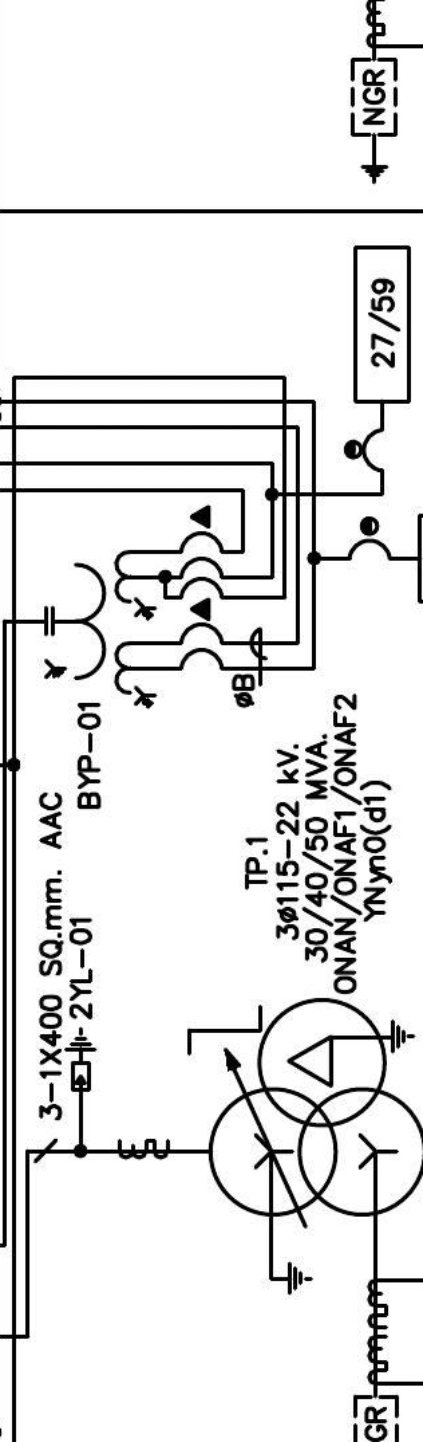115_cvt_3p: (44, 549, 158, 710)
115_la: (63, 1027, 98, 1092)
NGR_future: (350, 57, 398, 185)
